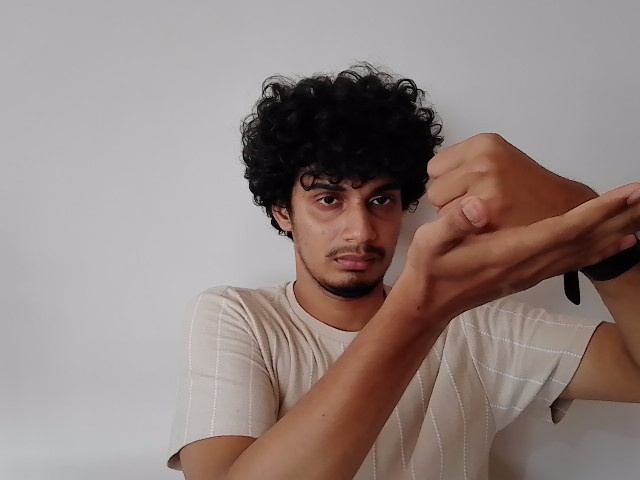help: (403, 133, 640, 318)
